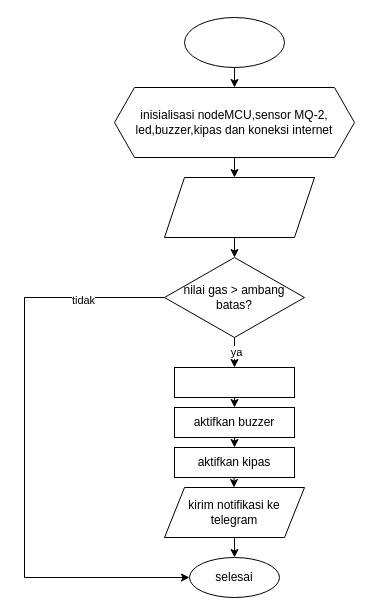
Image size: 372x615. Some labels were removed from this diagram. The shapes that lost their labels are listed below. From the top down, each one's box as (x1, y1, x2, y2) in pixels, then its label:
(184, 16, 284, 68): mulai
(164, 176, 314, 238): baca nilai analog dari sensor MQ2
(174, 366, 294, 398): aktifkan led
